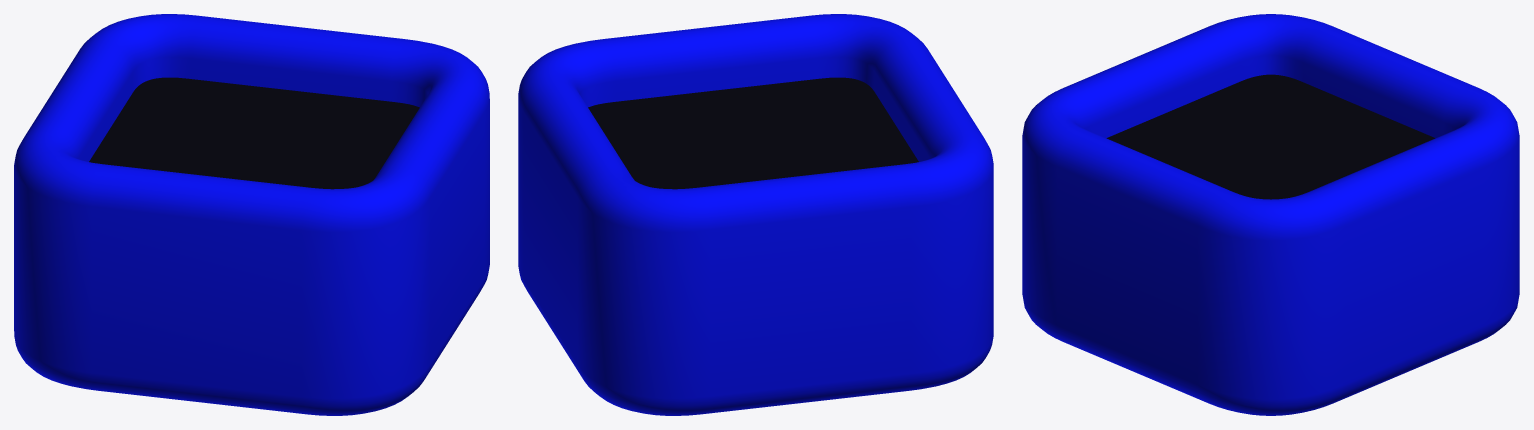
File: Particle-20.dae
3 renders of one model, left to right at view 1: azimuth 30°, elevation 25°; view 2: azimuth 150°, elevation 25°; view 3: azimuth 270°, elevation 25°, orthographic. The views are drawn at different scales.
Visible parts, largest first — view 1: Particle; view 2: Particle; view 3: Particle.
Part boxes in pixels (<box>): Particle: <box>14,14,489,415</box>; Particle: <box>518,14,993,415</box>; Particle: <box>1022,14,1519,415</box>.
Bounding box in the file's own units: 0.1279 × 0.06 × 0.1279.
